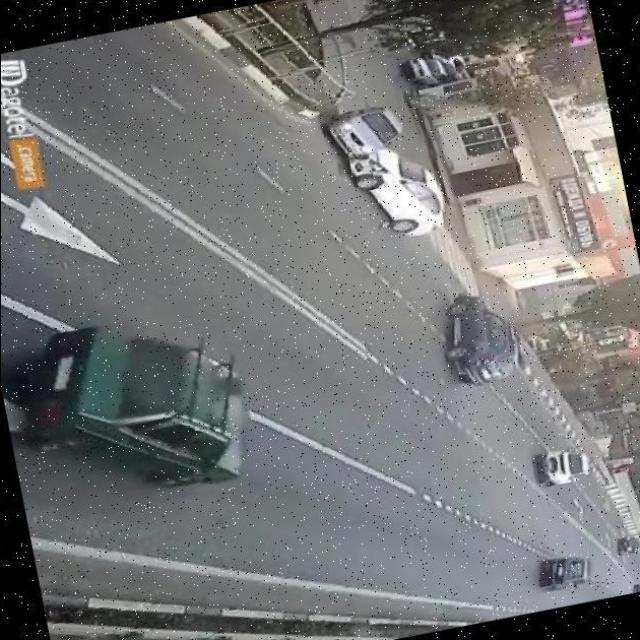accident: (316, 87, 456, 253)
